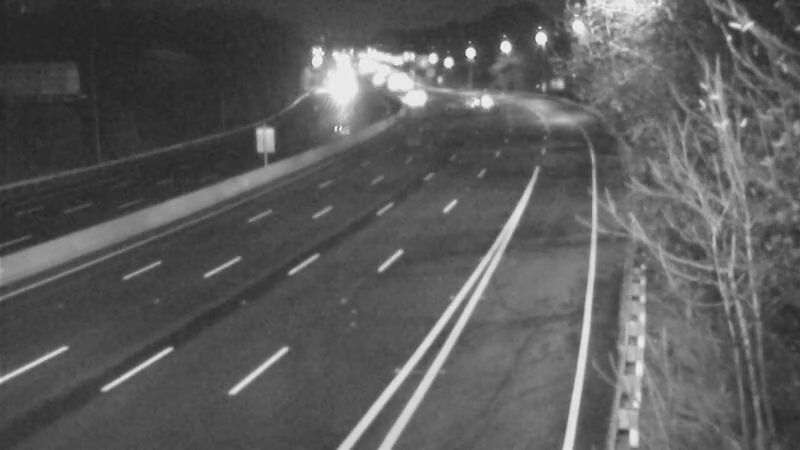vehicle: (393, 71, 443, 121), (458, 69, 508, 119)
